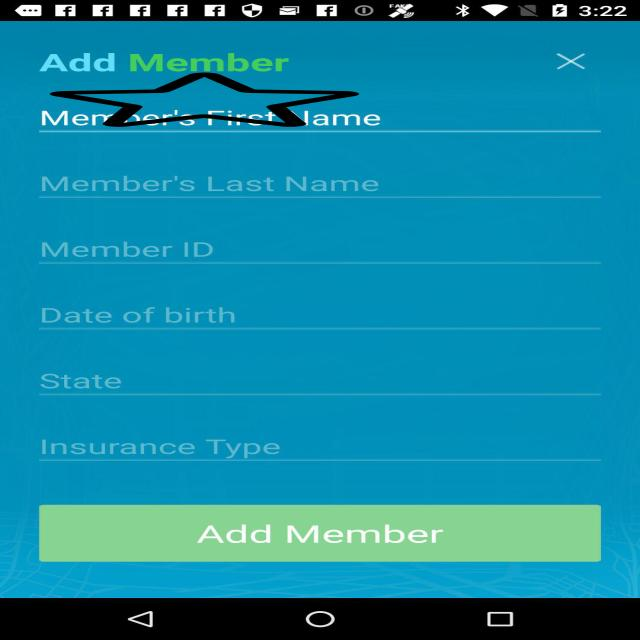forced continuity: (50, 71, 359, 128)
